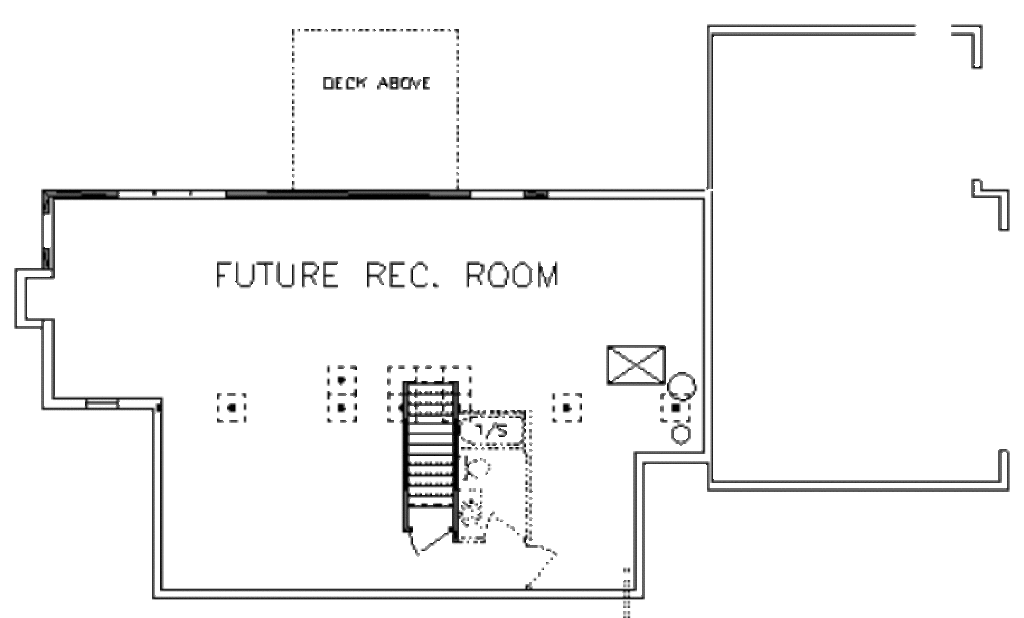door: (116, 183, 229, 206), (80, 391, 127, 415), (469, 186, 528, 202)
stairs: (399, 382, 459, 531)
